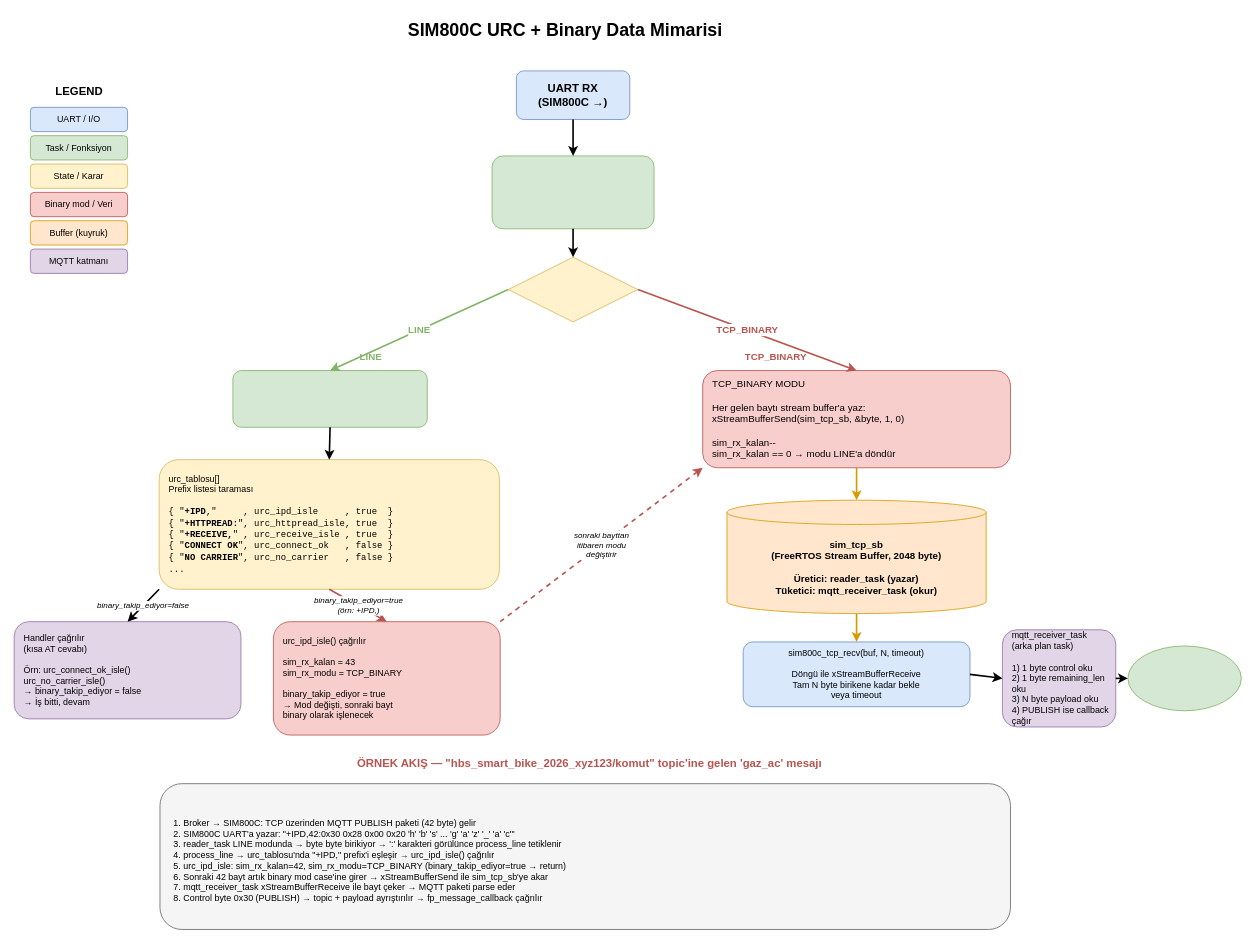
Some shapes in this 1256 by 944 pixel diagram are drawn without their labels. Here are the shapes that lost their labels. From the top down, the box of each, then its label:
(491, 155, 654, 229): reader_task (byte byte UART oku) switch(sim_rx_modu)
(507, 256, 638, 322): sim_rx_modu = ?
(232, 370, 427, 427): process_line(line_buf) Satır biriktir (\r\n veya ':' a kadar)
(1127, 645, 1241, 711): fp_message_callback (kullanıcı handler'ı)
